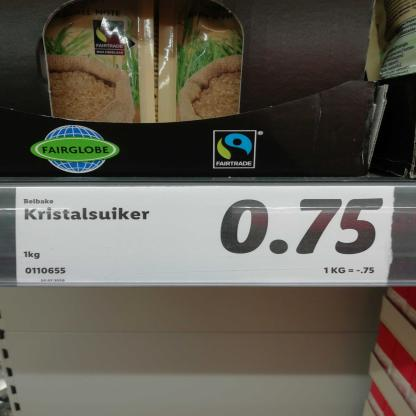prtg: (17, 188, 397, 287)
